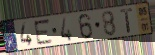4: (60, 15, 75, 43), (20, 22, 34, 47)
6: (78, 13, 94, 41)
8: (101, 9, 117, 37)
E: (32, 18, 54, 47)
T: (119, 7, 134, 34)
